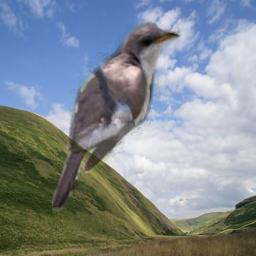Cuckoo: (52, 19, 182, 214)
